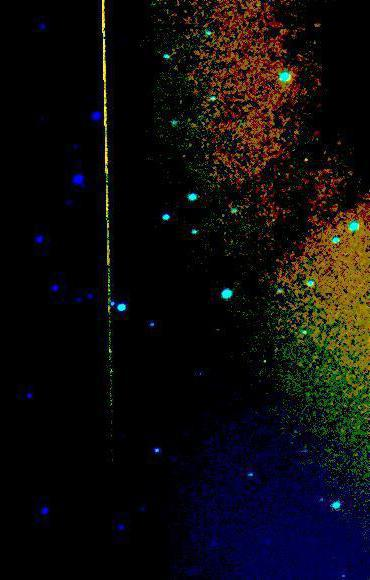star: (291, 144, 321, 174)
